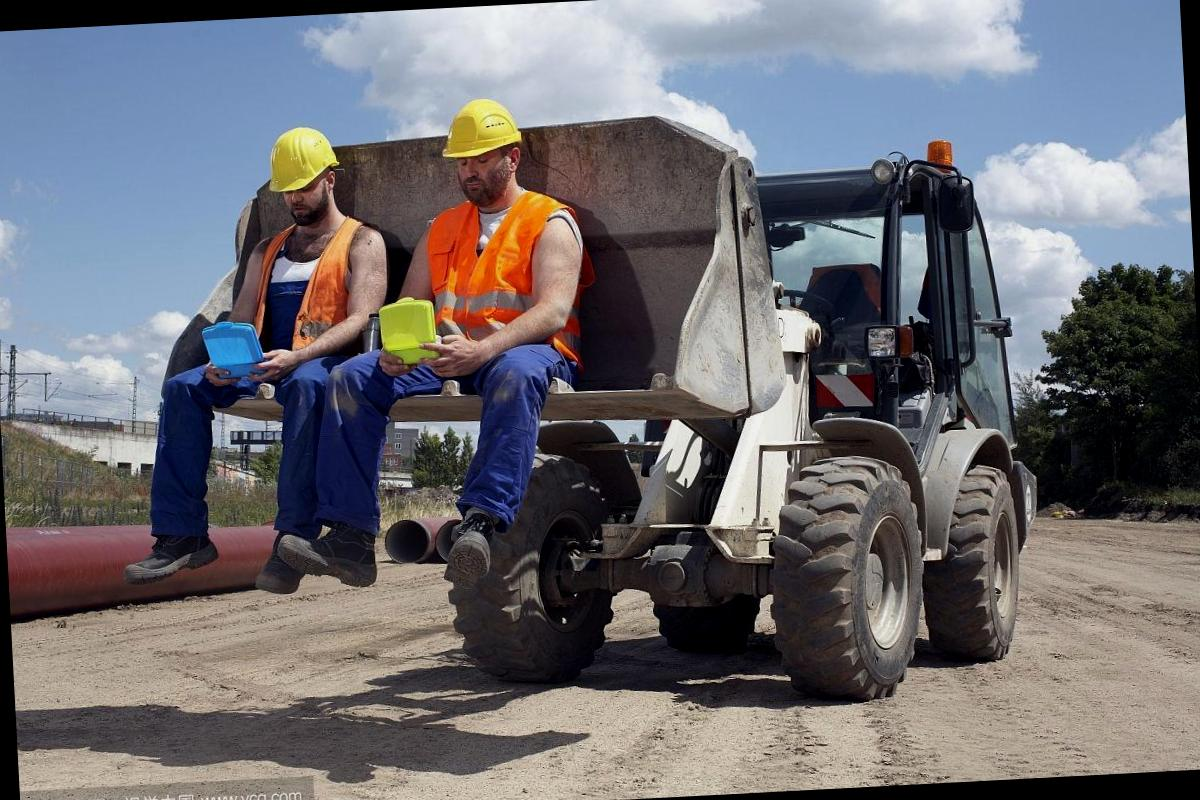helmet: (433, 93, 534, 160), (260, 125, 340, 200)
no_vest: (241, 216, 371, 371)
person: (380, 90, 603, 598), (178, 124, 390, 580)
